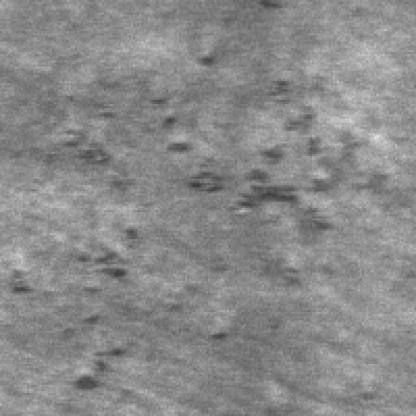rolled-in_scale: (166, 56, 400, 227), (18, 96, 140, 389)
